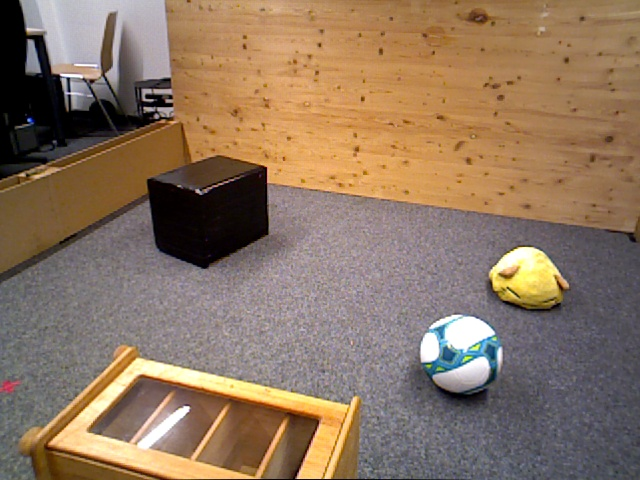grasp: (489, 244, 569, 311)
kick: (420, 316, 504, 397)
push: (146, 155, 271, 266)
